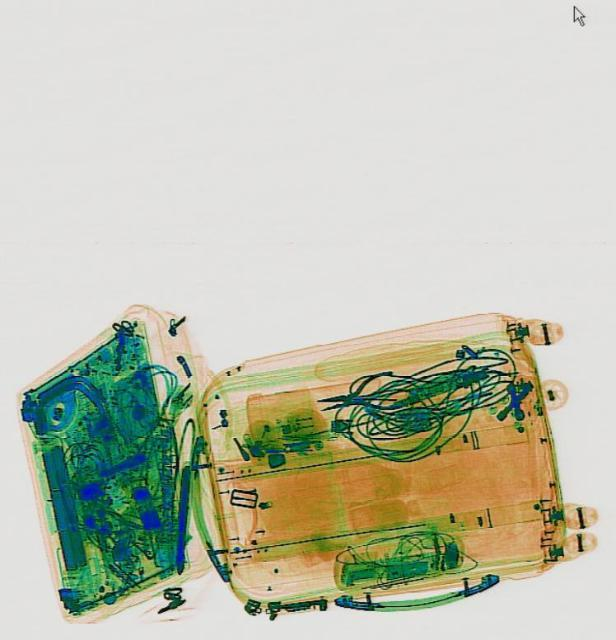Pliers: (312, 368, 400, 424)
